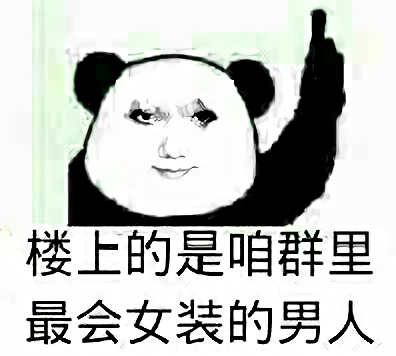dragon: (125, 98, 218, 182)
